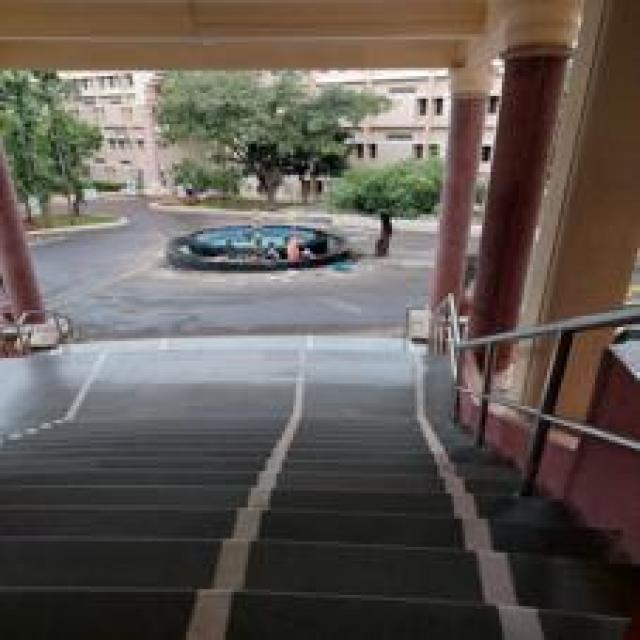stair: (99, 415, 471, 590)
